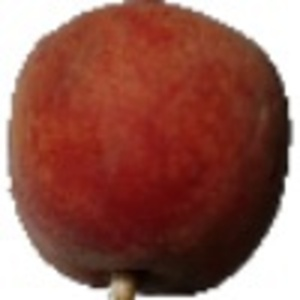pêssego: (5, 1, 292, 300)
